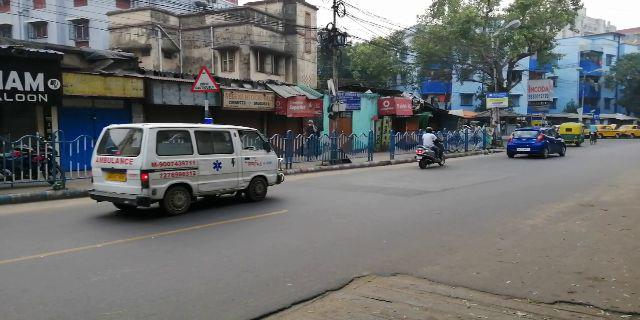Autorickshaw: (559, 118, 582, 150)
Car: (506, 127, 570, 156)
Motorbike: (417, 128, 449, 168)
Van: (96, 122, 280, 210)
